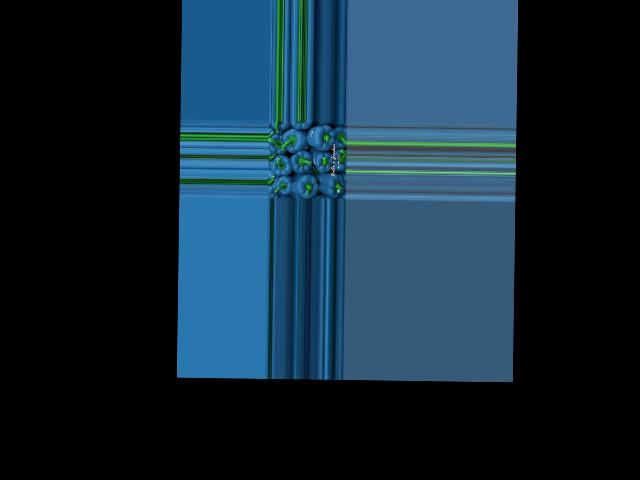bell_pepper: (330, 123, 347, 150)
